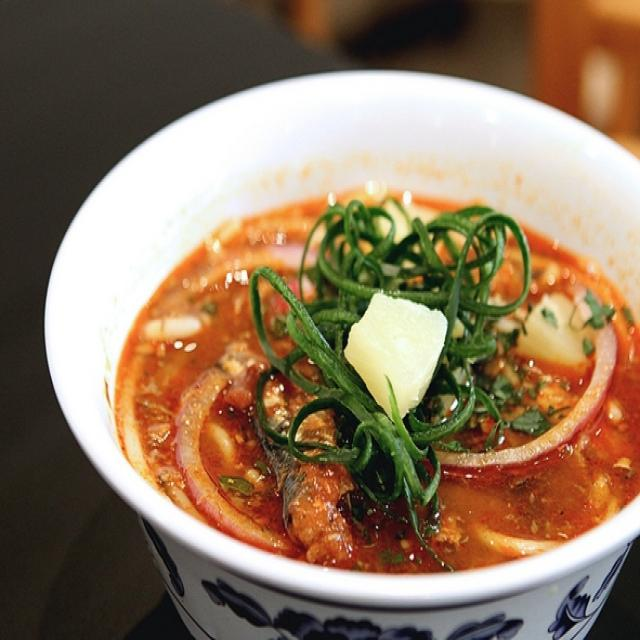面条主食: (55, 47, 626, 617)
